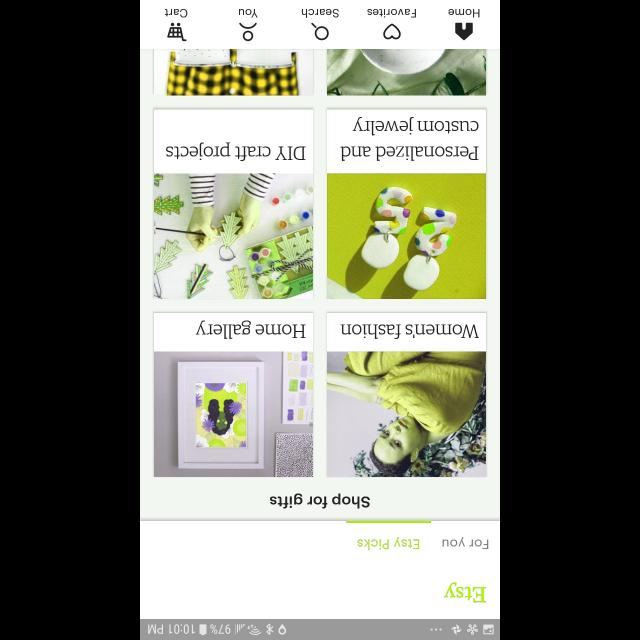icon: (168, 22, 186, 42), (239, 22, 257, 42), (311, 23, 329, 41), (455, 23, 473, 41), (383, 24, 401, 40)
image: (326, 174, 486, 298), (154, 352, 314, 476), (326, 352, 486, 476), (155, 174, 313, 298), (154, 49, 314, 95), (326, 49, 486, 95)
text: (339, 116, 478, 162), (166, 142, 306, 162), (195, 320, 305, 340), (339, 324, 478, 338), (270, 494, 370, 508), (357, 537, 419, 551), (444, 582, 486, 602), (442, 536, 488, 548), (366, 8, 416, 18), (448, 8, 480, 18), (302, 10, 338, 18), (165, 8, 188, 18), (238, 8, 258, 18)
uppertaskbar: (140, 618, 500, 640)
